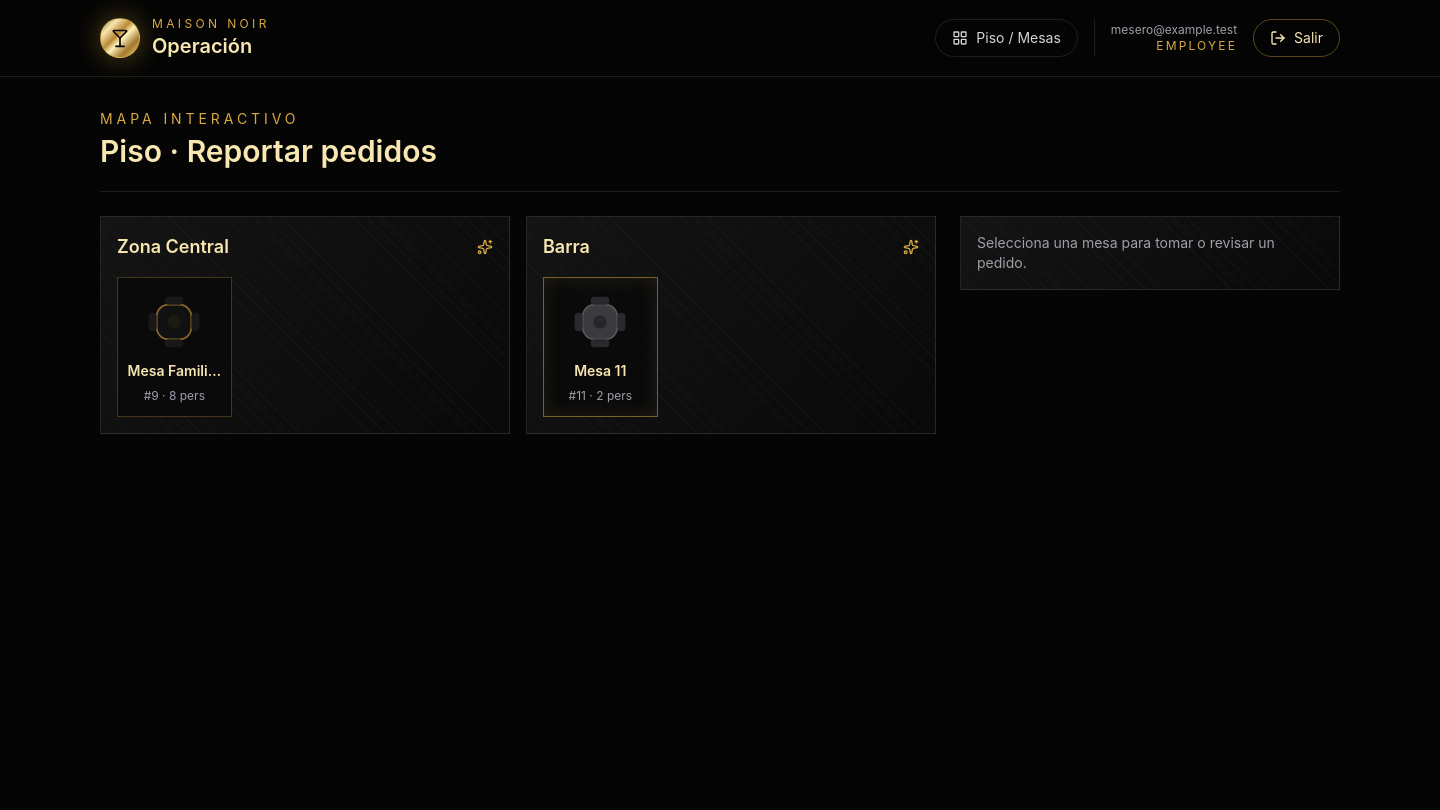
Test: FloorPage (flujo del mesero) › muestra los pedidos de la mesa y permite eliminarlos
This screenshot has width=1440, height=810.
Click the button "Mesa Familiar #9 · 8 pers". click: (174, 347)
box: [117,276,232,417]
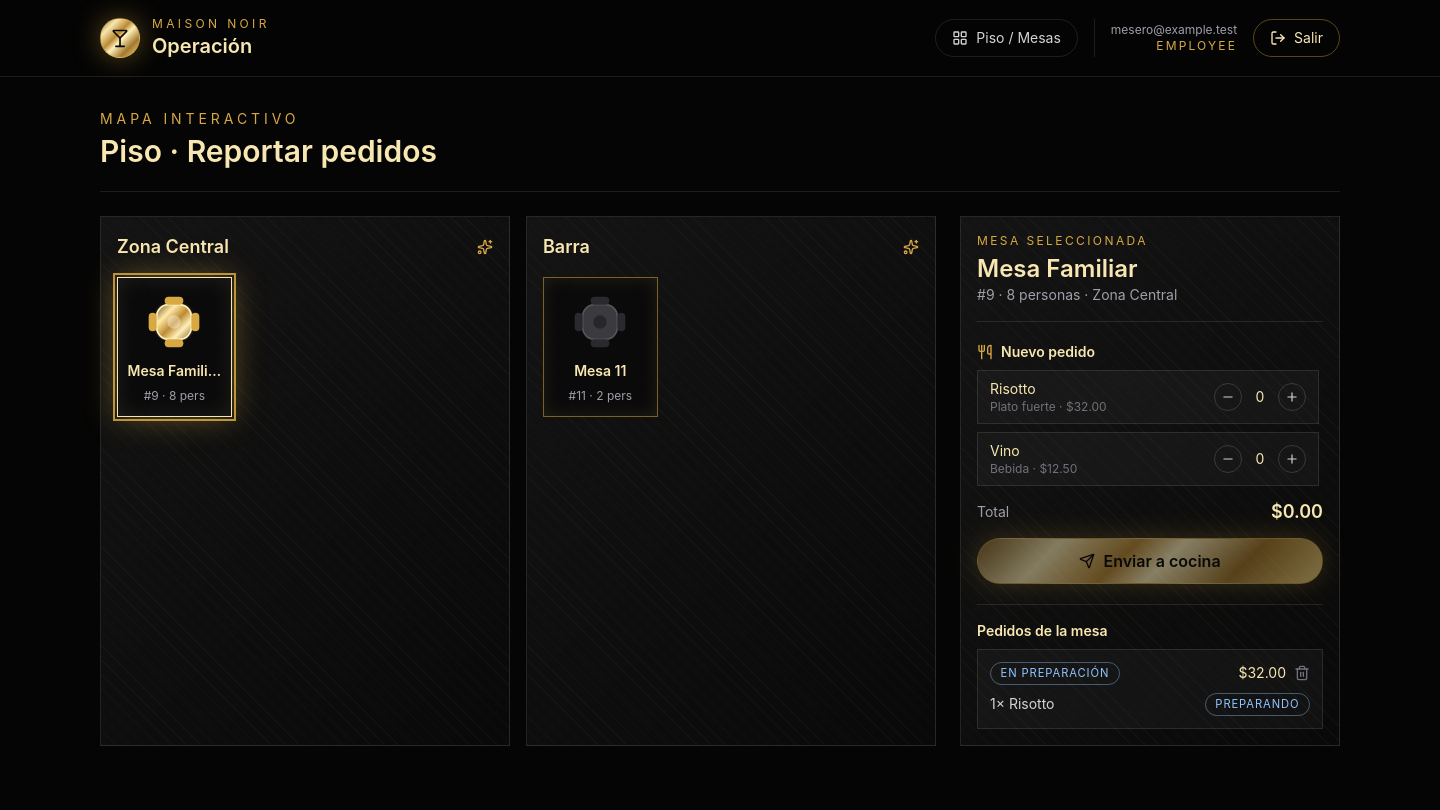
Expected: the text "En preparación" is shown, [990,662,1120,685]
Expected: the text "1× Risotto" is shown, [990,694,1054,714]
Click the button named "Eliminar pedido". click: (1302, 673)
box: [1294,665,1310,681]
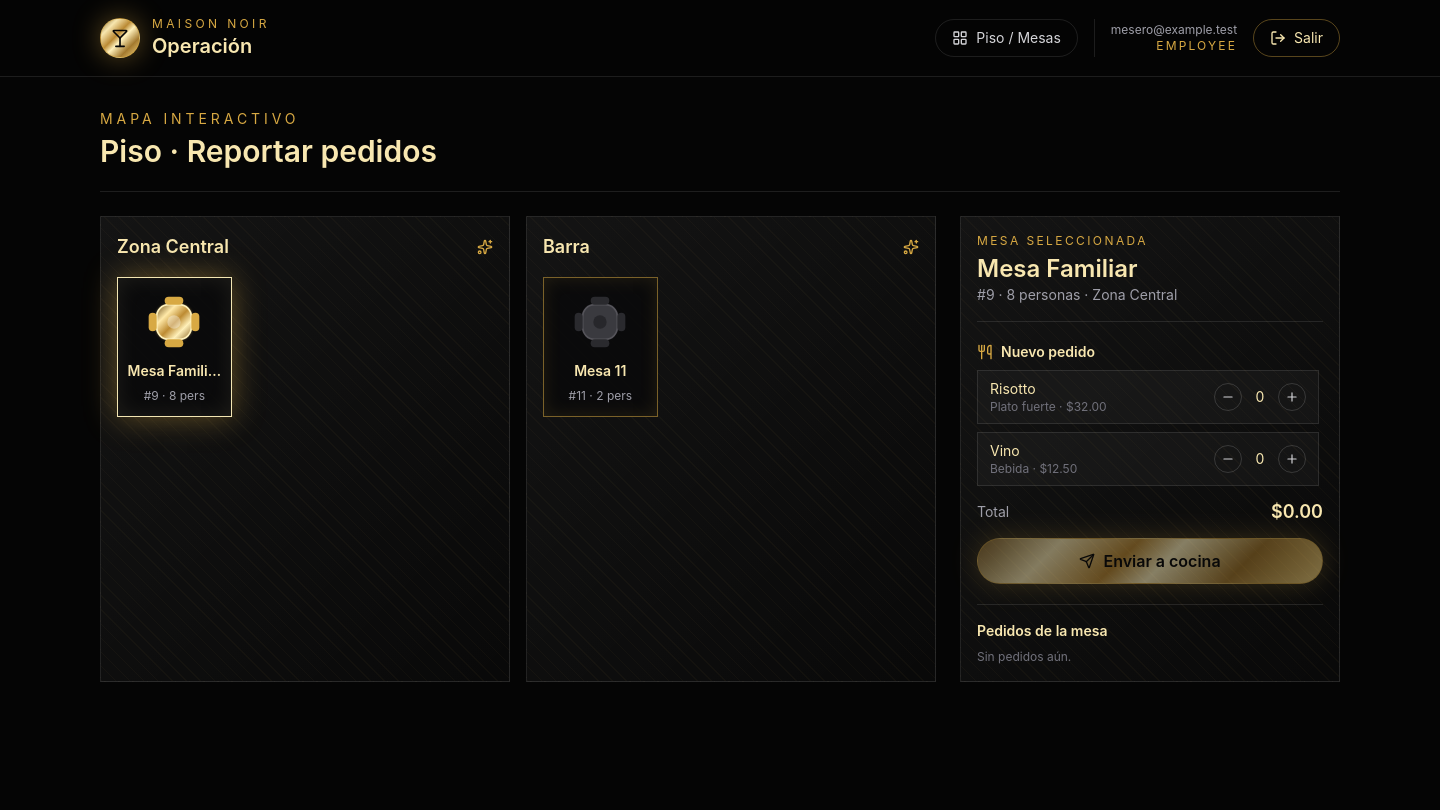
Expected: the text "Sin pedidos aún." is shown, [977,648,1071,664]
